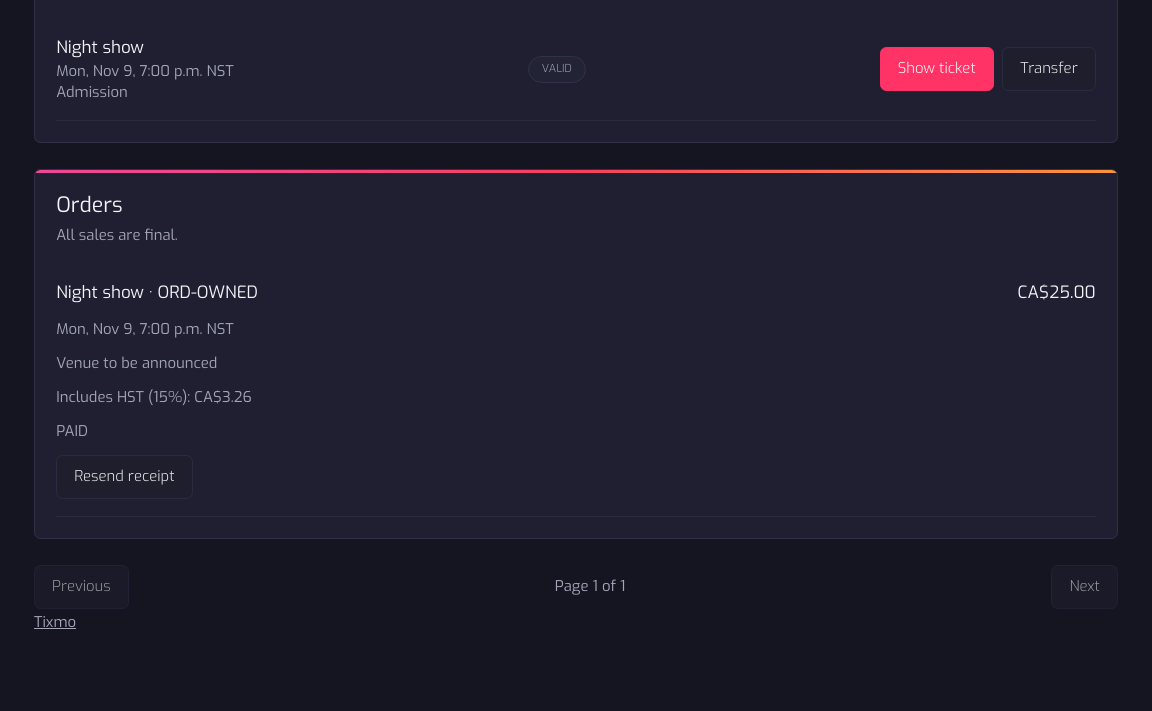
Test: Buyer wallet › resends a paid receipt through the authenticated existing endpoint without creating payment
The image size is (1152, 711).
(page scrolled)
Expected: the text "ORD-OWNED" is shown, [158,281,258,304]
Click the button "Resend receipt": coordinates (124, 477) [56,454,193,499]
(page scrolled)
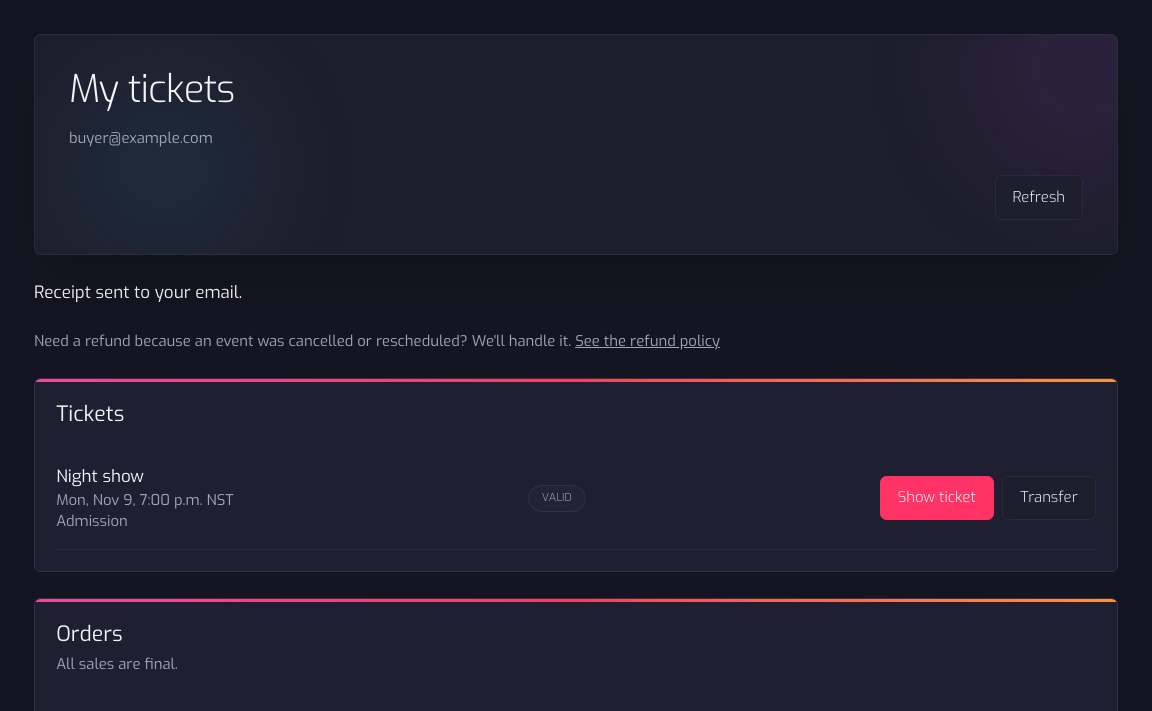
Now the text "Receipt sent to your email." is shown, box [34,281,242,304]
